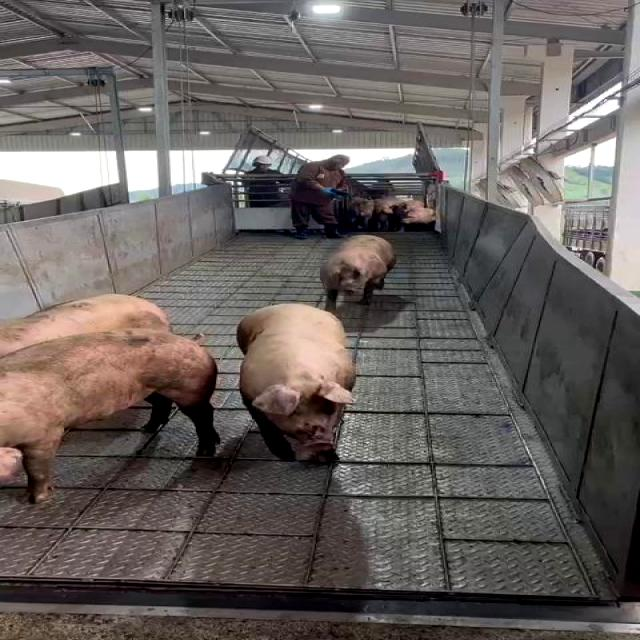pig: (0, 329, 220, 502), (236, 304, 355, 462), (0, 294, 168, 356), (321, 235, 396, 312)
